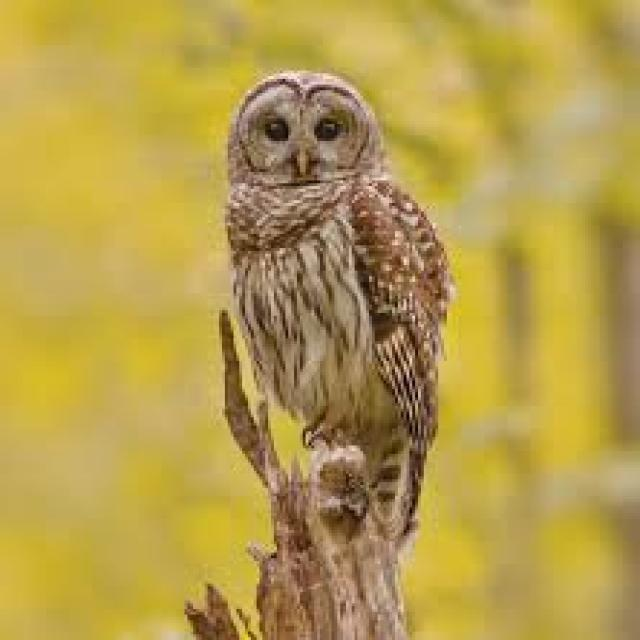Owl: (203, 65, 471, 541)
